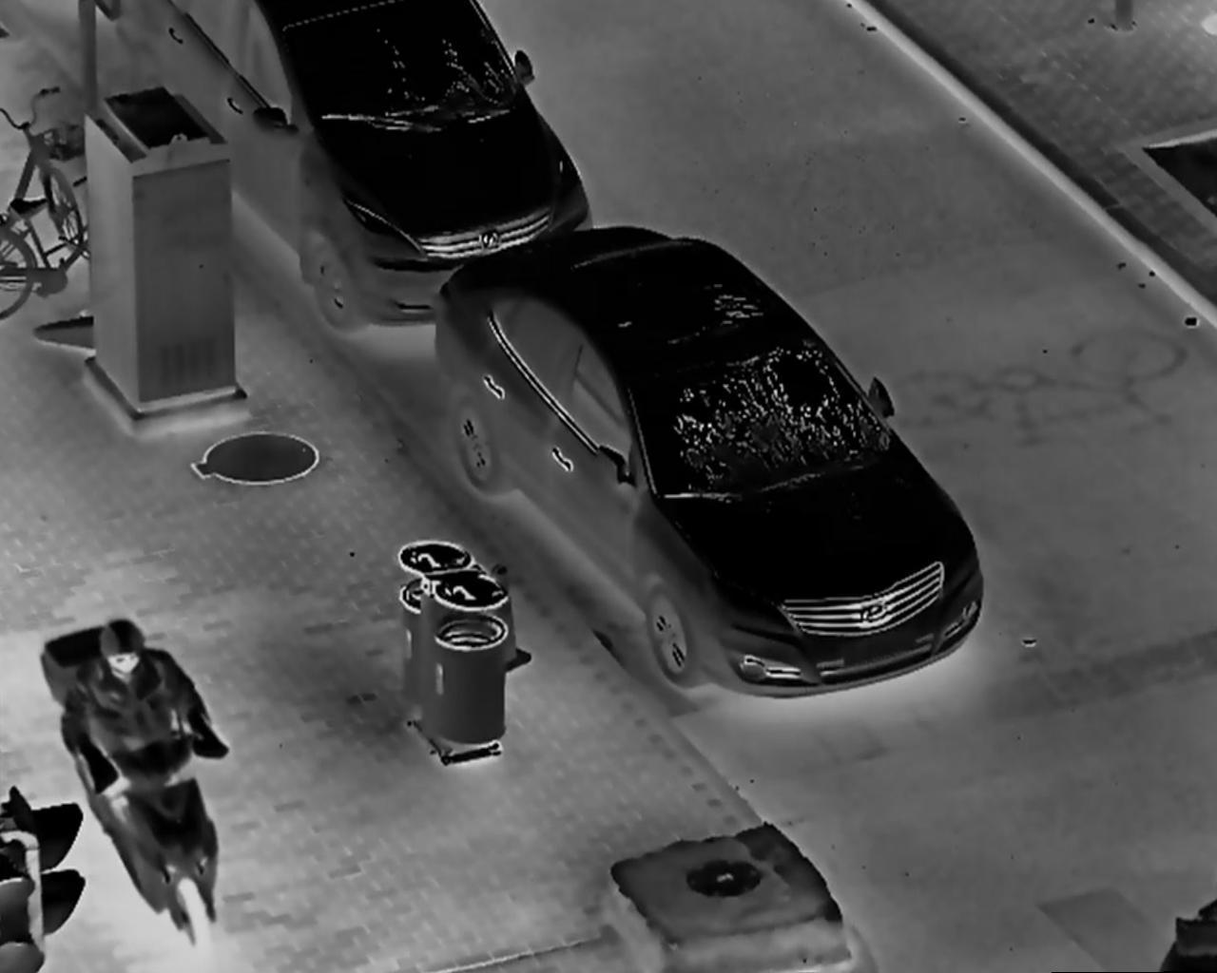person: (68, 616, 224, 908)
